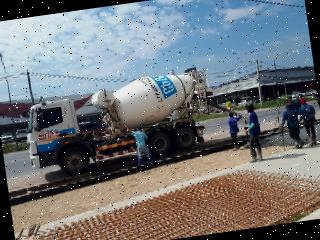cement_mixer_truck: (27, 70, 204, 175)
